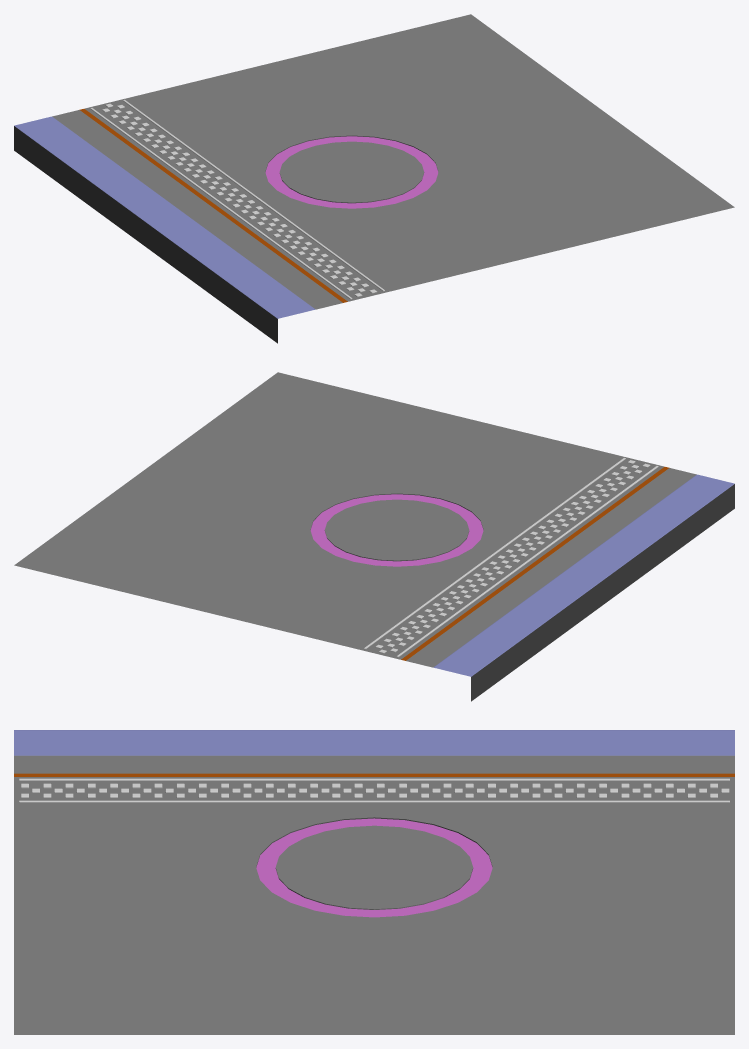
The model's file is W_M_maze_002_EnBottom_L0.fbx.
The picture shows the model from 3 angles, top to bottom: view 1: azimuth 30°, elevation 25°; view 2: azimuth 150°, elevation 25°; view 3: azimuth 270°, elevation 25°; orthographic projection. The views are drawn at different scales.
Visible parts, largest first — view 1: W_M_maze_002_EnBottom_L0; view 2: W_M_maze_002_EnBottom_L0; view 3: W_M_maze_002_EnBottom_L0.
Part boxes in pixels (x1,y1,x2,y2): W_M_maze_002_EnBottom_L0: (14, 14, 734, 343); W_M_maze_002_EnBottom_L0: (14, 372, 734, 701); W_M_maze_002_EnBottom_L0: (14, 730, 734, 1034).
Size of the model in its own units: 4 by 0.2144 by 4.
